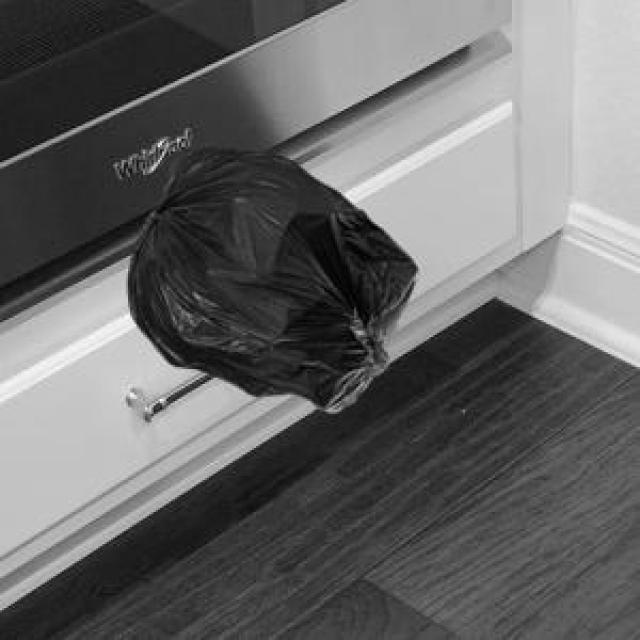miscellaneous trash: (124, 143, 414, 408)
